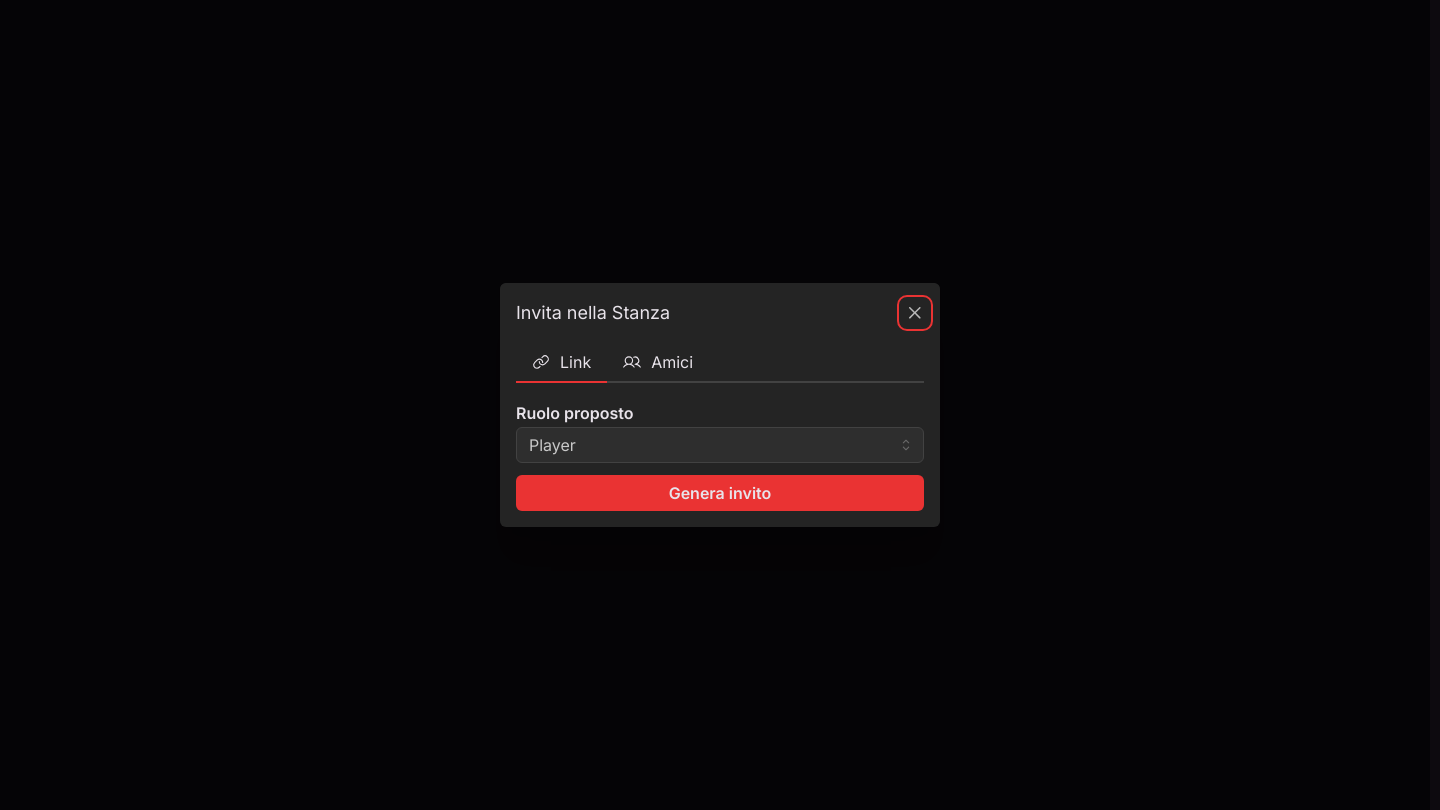
Test: InviteModal Friends tab › says when there is no Friend left to invite
The image size is (1440, 810).
Click the tab "Amici". click: (658, 363)
box: top-left (607, 343), bottom-right (709, 383)
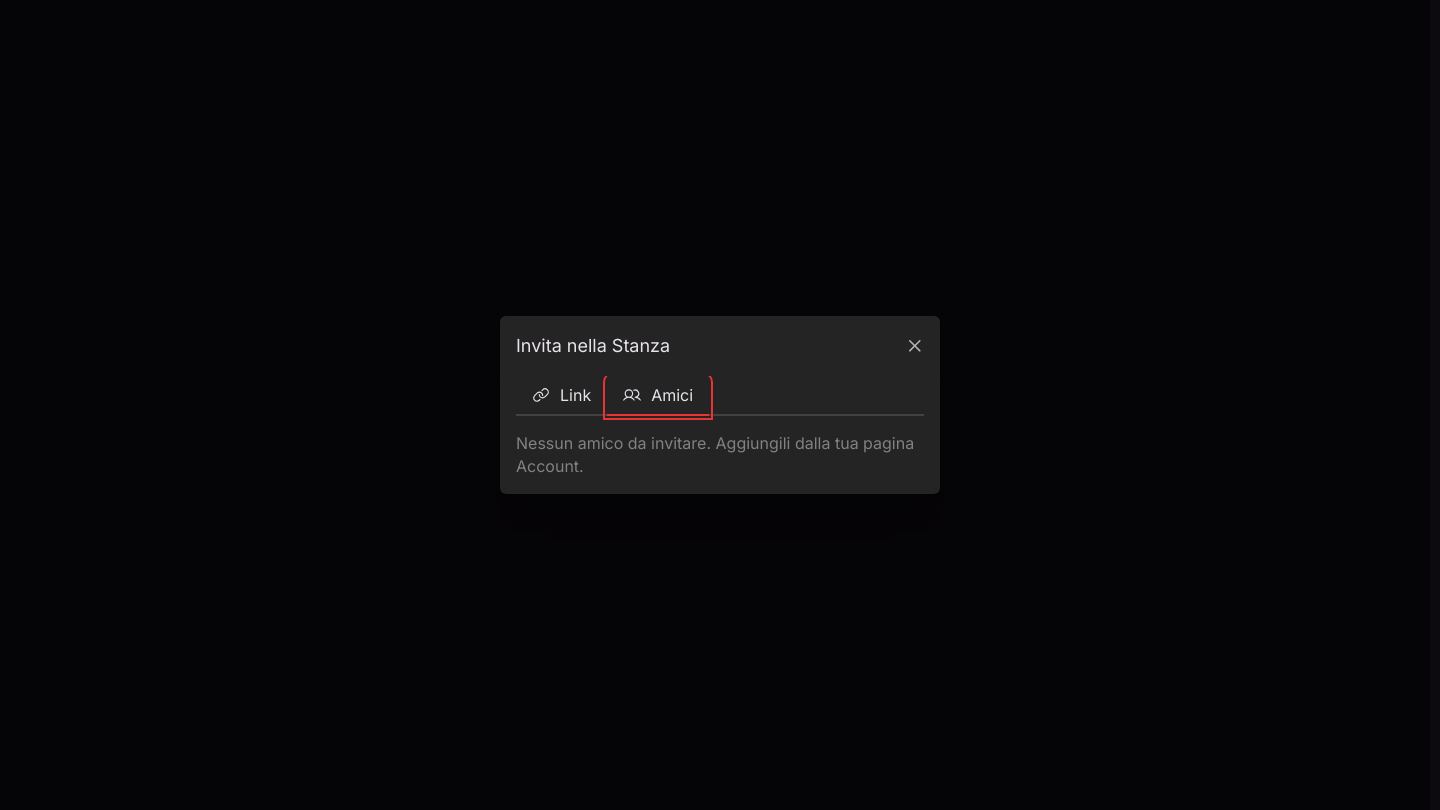
expect the text "Nessun amico da invitare" is shown: met, box top-left (516, 433), bottom-right (914, 476)
